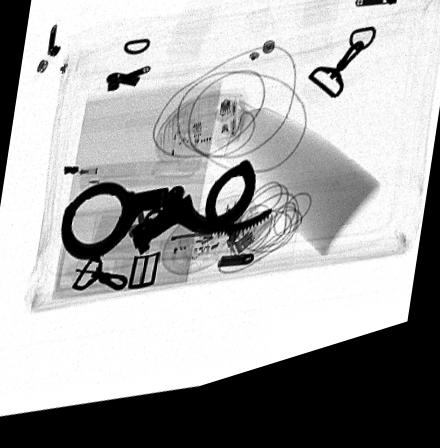HandCuffs: (61, 175, 273, 265)
